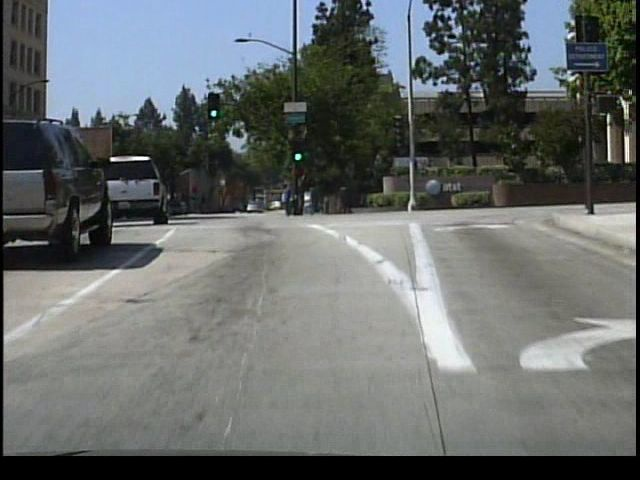person: (277, 175, 297, 219), (299, 183, 319, 220)
